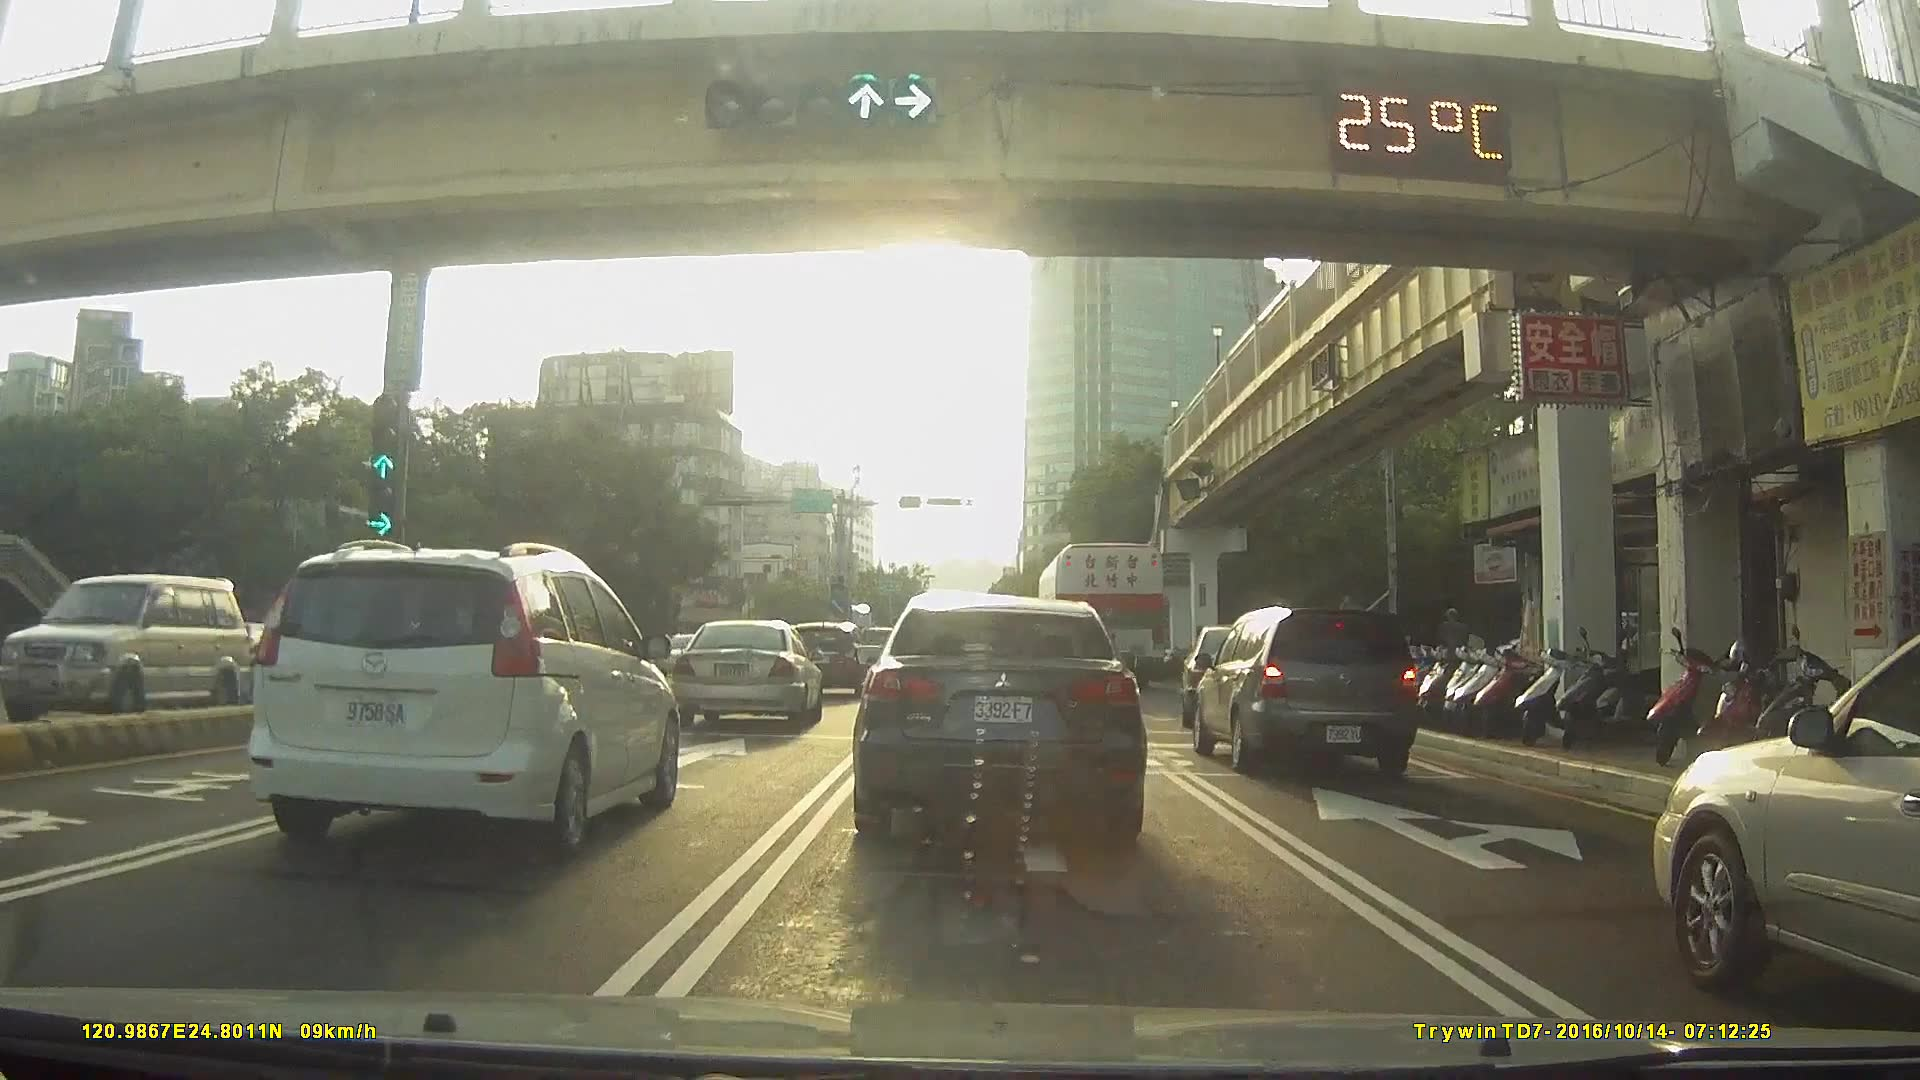vehicle: (239, 537, 686, 857), (1647, 630, 1920, 1000), (851, 589, 1145, 852), (1191, 604, 1419, 781), (15, 564, 237, 724), (1033, 541, 1168, 688), (671, 615, 820, 729), (1182, 621, 1302, 719), (779, 621, 864, 698), (647, 633, 705, 680)
